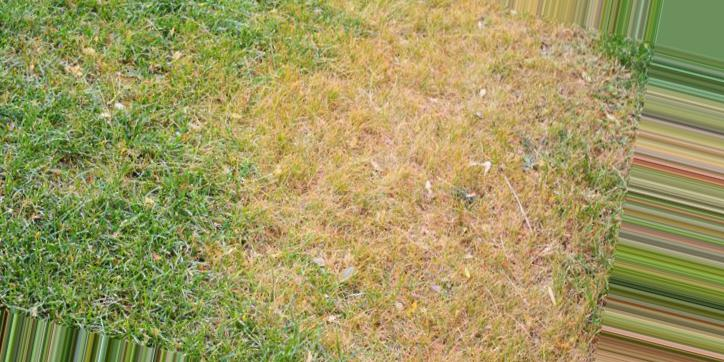patch: (322, 52, 471, 348), (491, 31, 565, 362)
